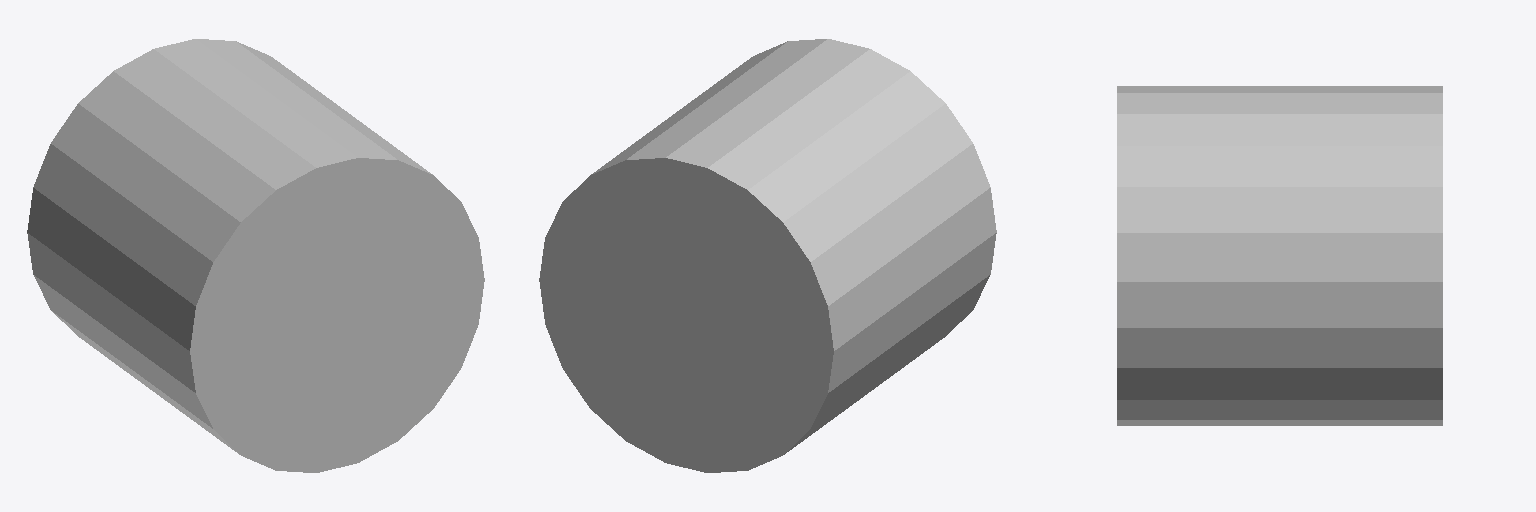
File: prt0003.obj
3 renders of one model, left to right at view 1: azimuth 30°, elevation 25°; view 2: azimuth 150°, elevation 25°; view 3: azimuth 270°, elevation 25°, orthographic.
Visible parts, largest first — view 1: 1; view 2: 1; view 3: 1.
Boxes of the visible parts, x1=… form: 1: x1=27, y1=39, x2=484, y2=472; 1: x1=539, y1=39, x2=996, y2=472; 1: x1=1117, y1=86, x2=1442, y2=425.
Size of the model in its own units: 4000 by 3959 by 3827.